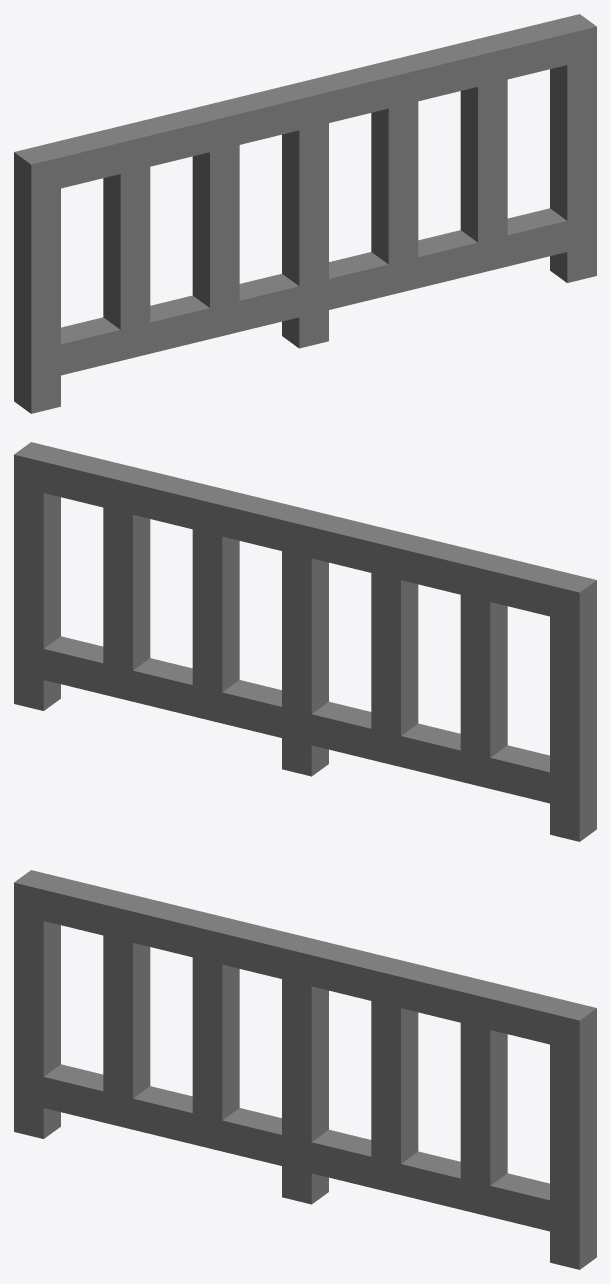
File: obj_fence4.obj
The picture shows the model from 3 angles, top to bottom: view 1: azimuth 30°, elevation 25°; view 2: azimuth 150°, elevation 25°; view 3: azimuth 330°, elevation 25°; orthographic projection.
Size of the model in its own units: 1.9 by 0.8 by 0.1.
1 material, 1 textured.
